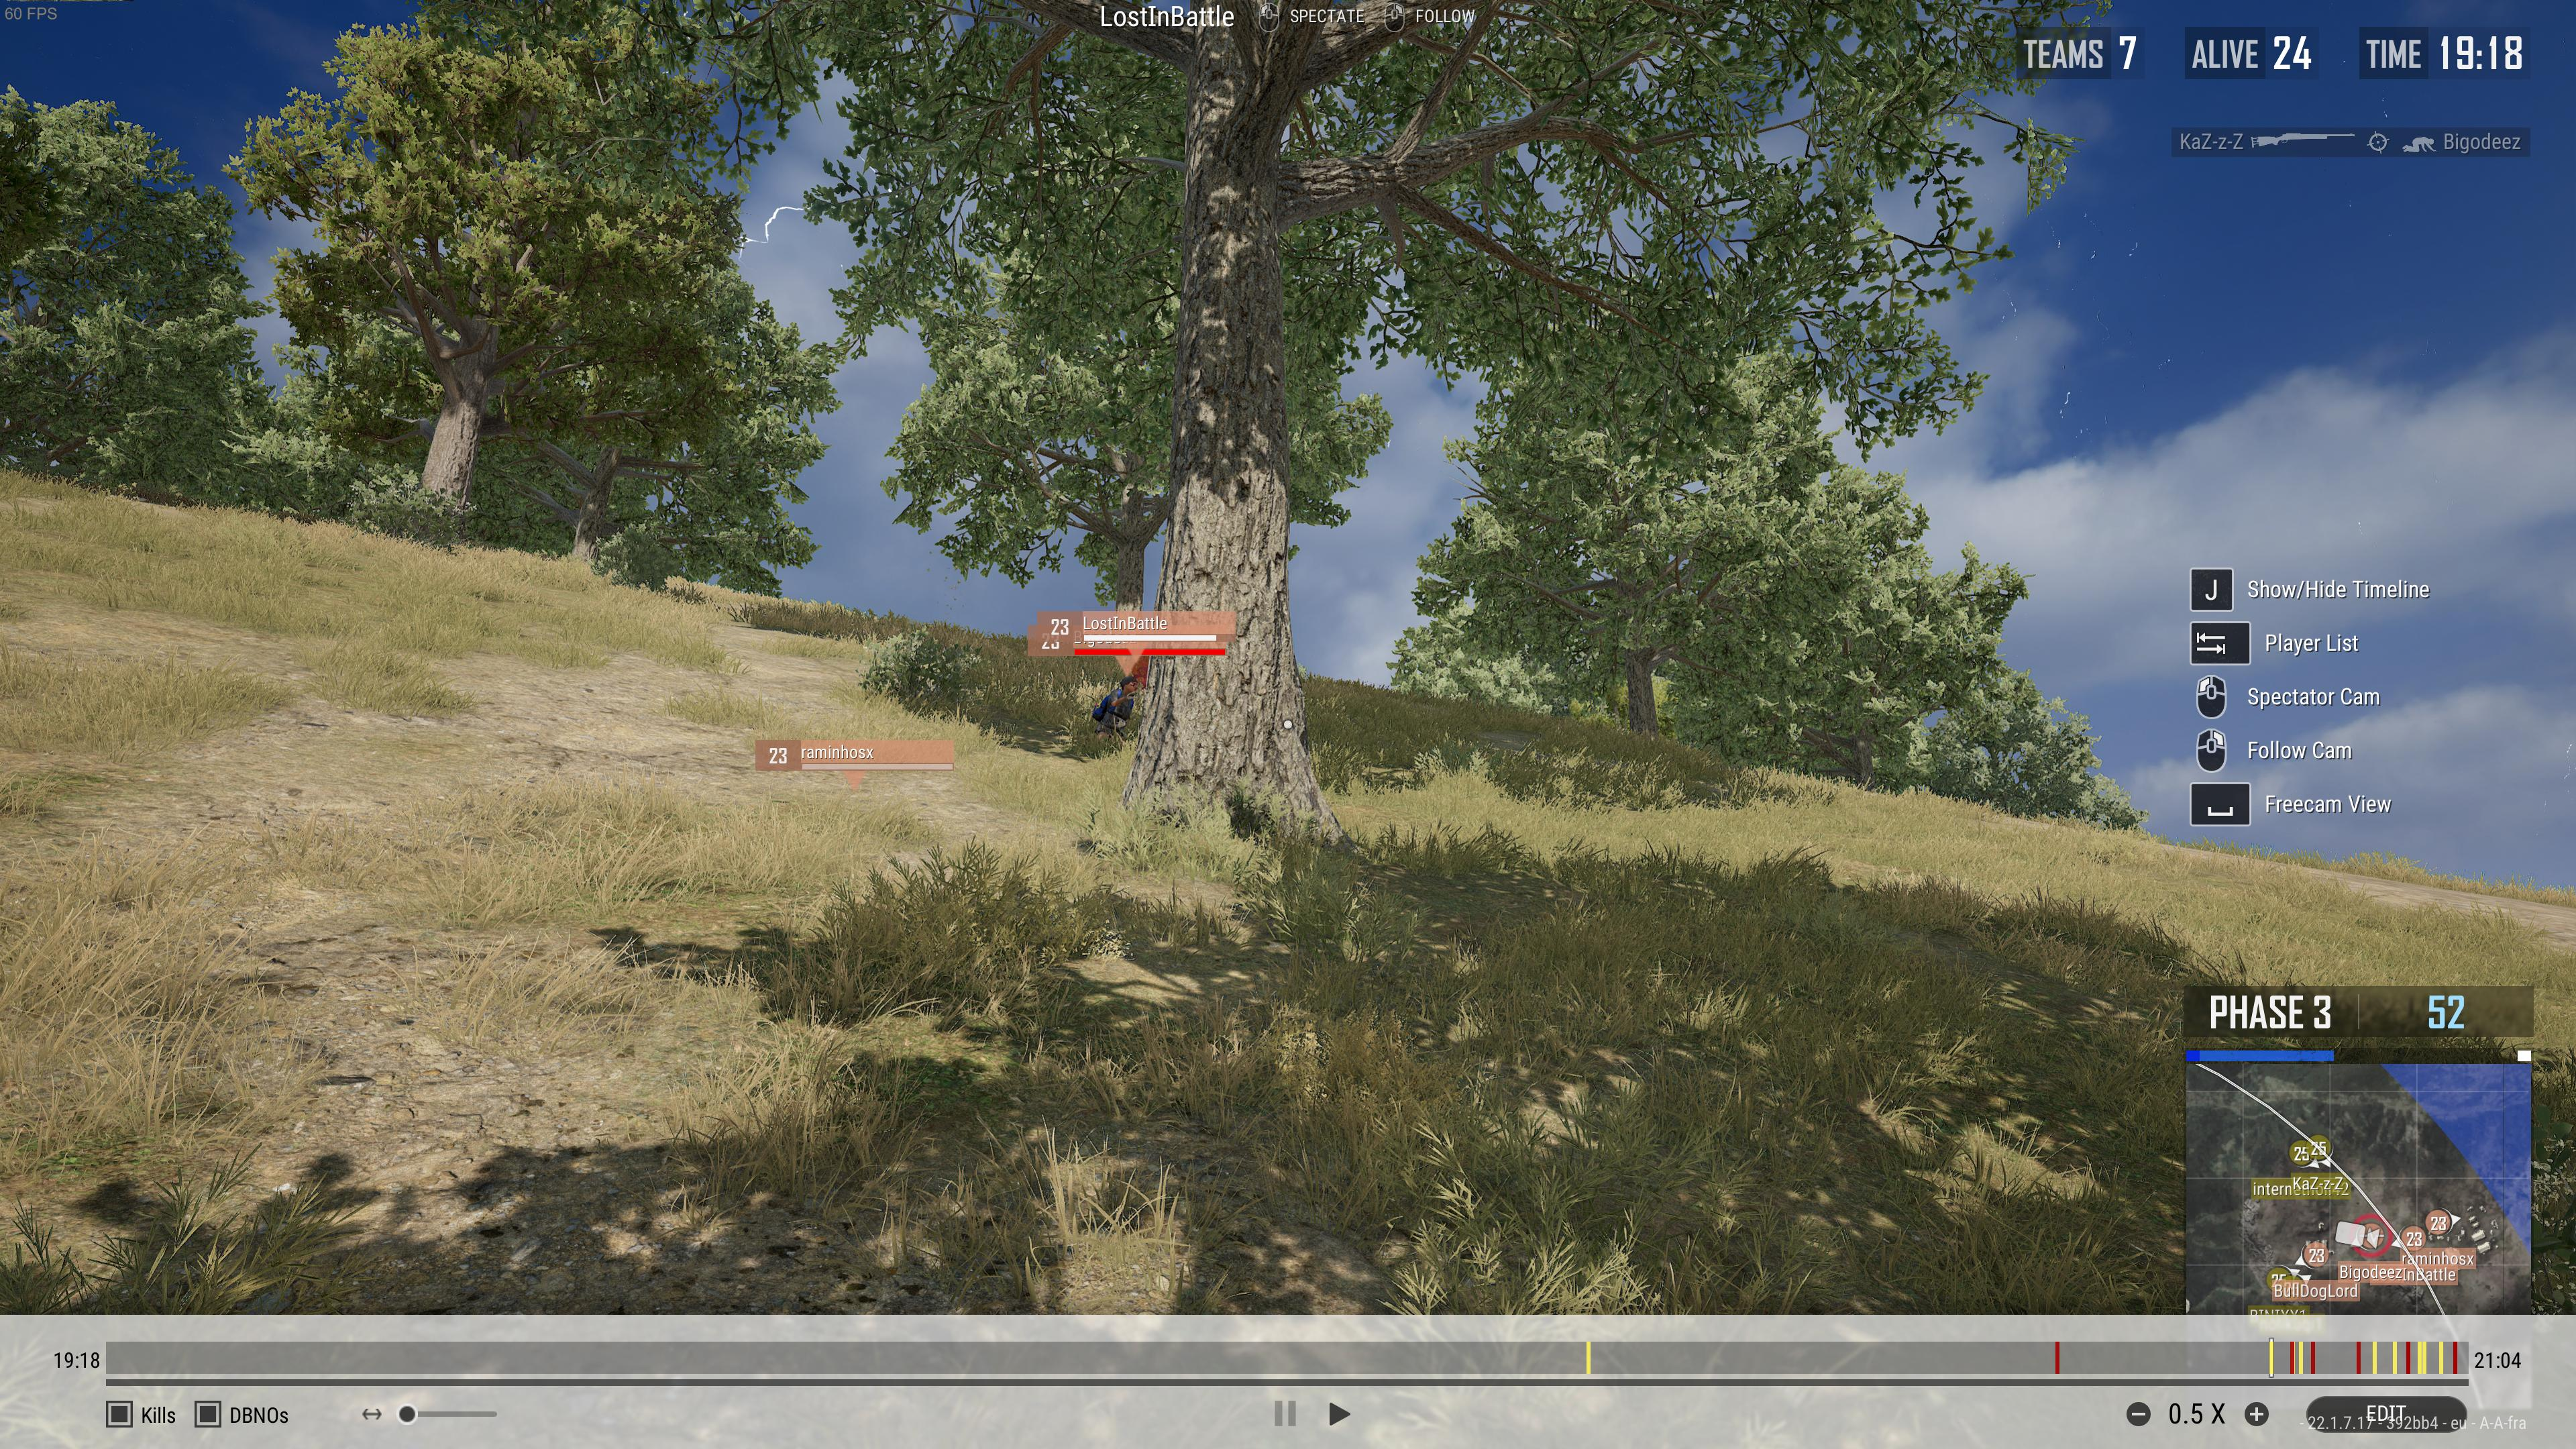enemy: (1090, 676, 1138, 747)
enemy_head: (1120, 676, 1138, 694)
